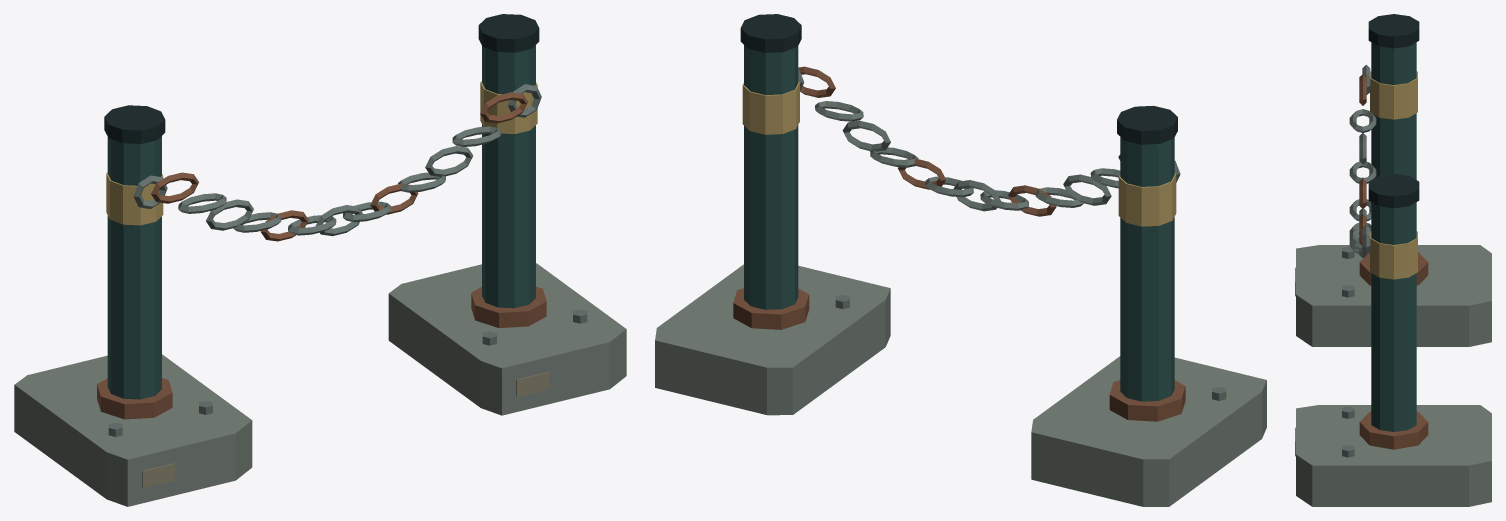
The model's file is v116-yard-bollard-chain.glb.
The picture shows the model from 3 angles, left to right: view 1: azimuth 30°, elevation 25°; view 2: azimuth 150°, elevation 25°; view 3: azimuth 270°, elevation 25°; orthographic projection. The views are drawn at different scales.
Parts seen in each view (by area): view 1: bollard-chain; view 2: bollard-chain; view 3: bollard-chain.
Boxes of the visible parts, x1,y1,x2,y2 form: bollard-chain: (14, 14, 626, 506); bollard-chain: (655, 14, 1266, 506); bollard-chain: (1295, 14, 1491, 506).
Size of the model in its own units: 1.6 by 0.986 by 0.603.
